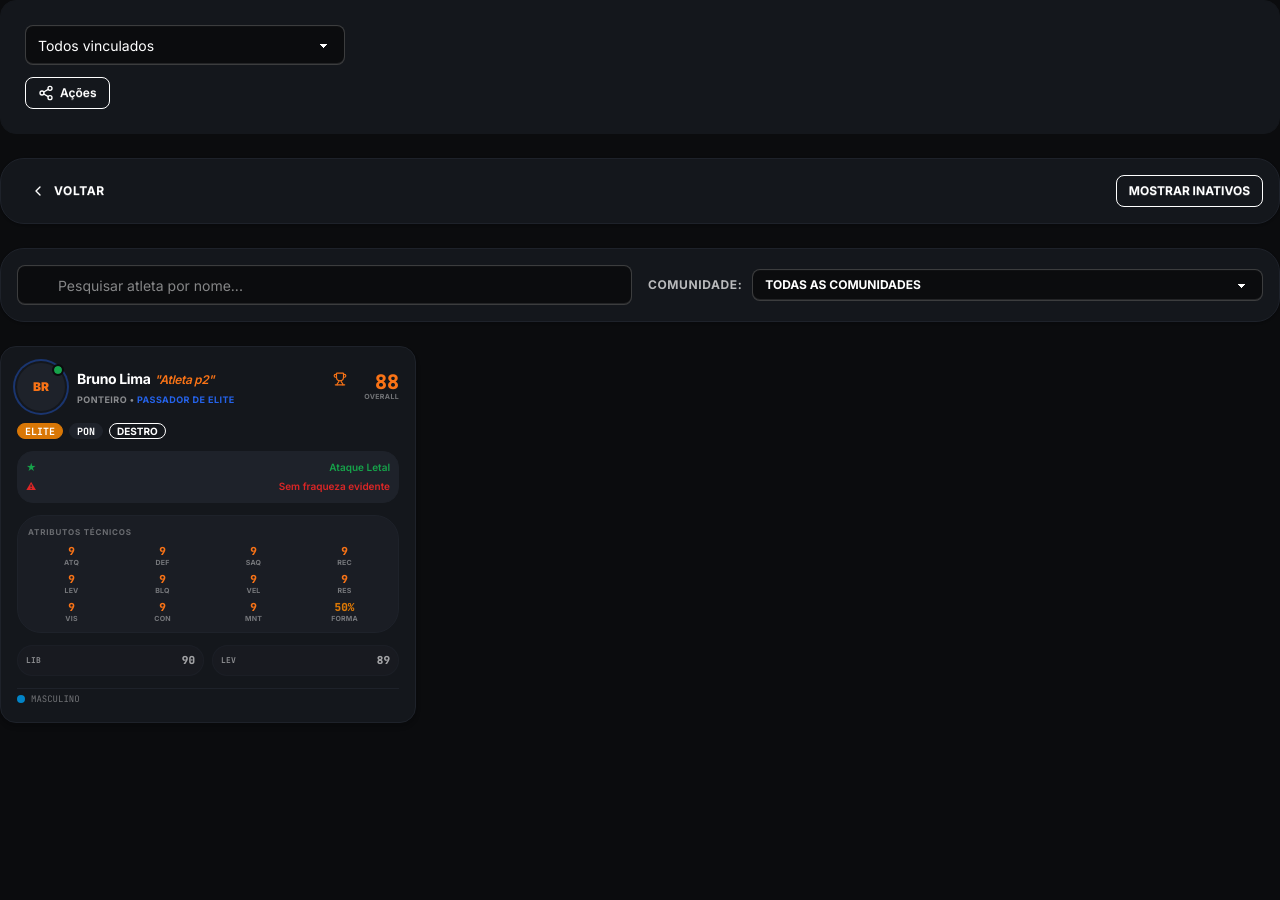
Test: PlayersView › tocar num convidado tambem abre a carta VUT
Click the heading "Bruno Lima\"Atleta p2\"".
click(146, 379)  # box [77,370,214,387]
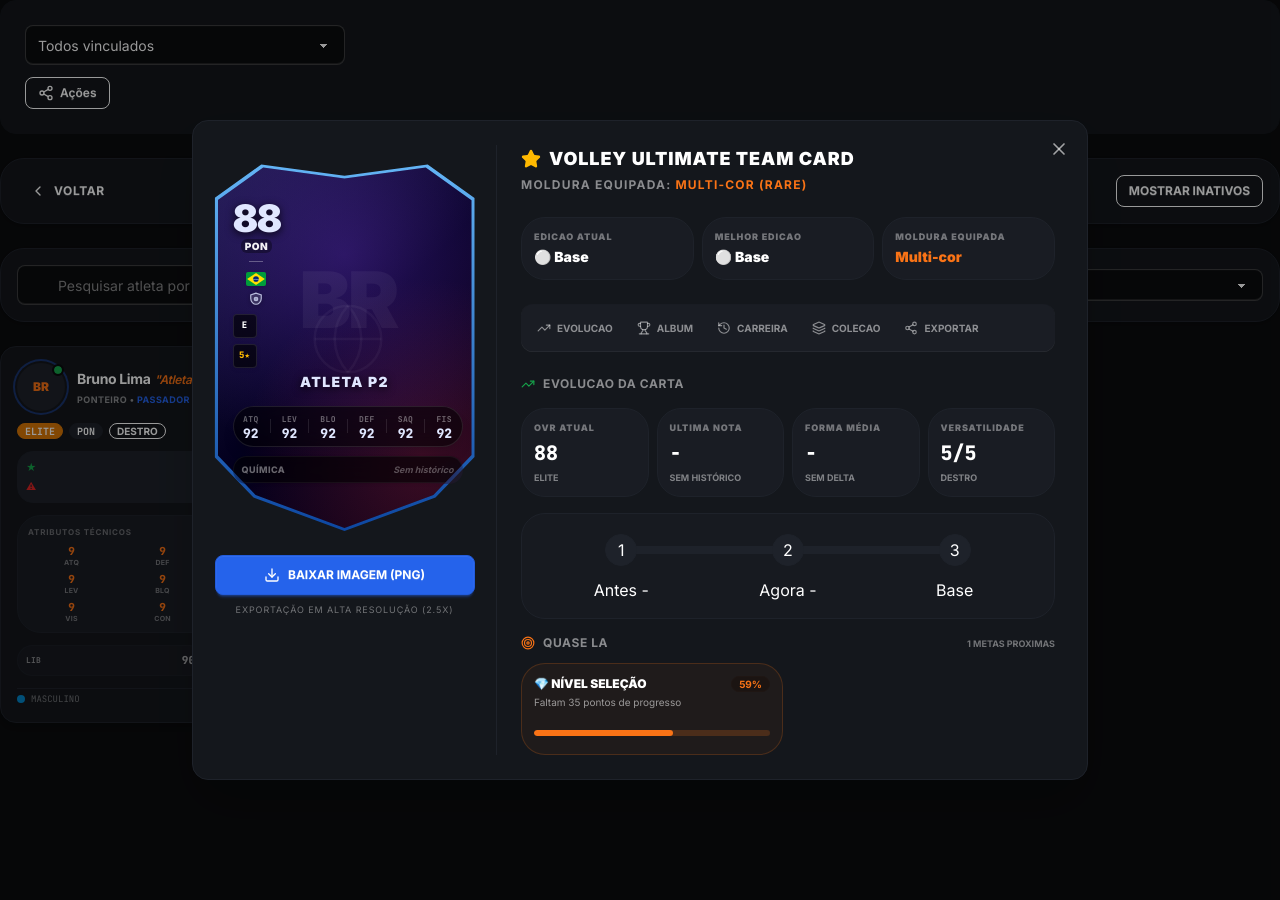
Expected: the button named "fechar o card do atleta" is shown, [1043,133,1075,165]
